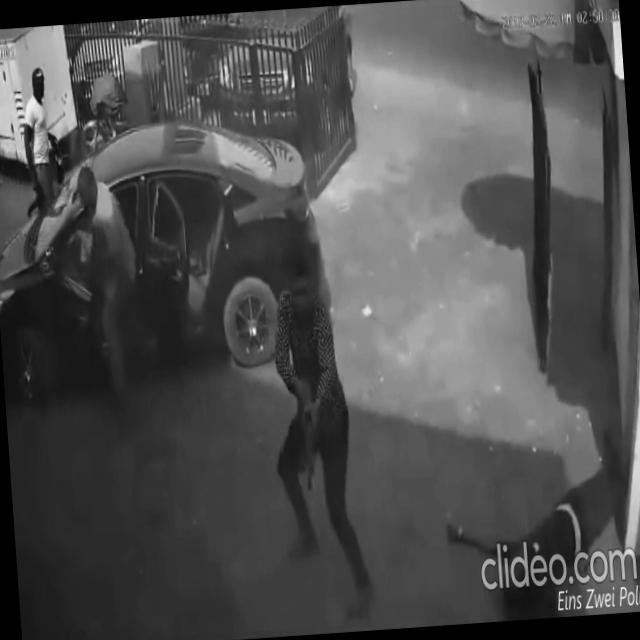gun: (298, 375, 320, 494), (25, 160, 48, 223)
person: (440, 427, 636, 628), (72, 159, 153, 451)
person with a gun: (260, 242, 378, 630), (17, 62, 68, 222)
